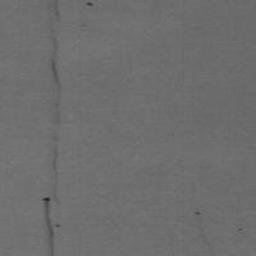Inclusion: (42, 0, 63, 256), (195, 210, 215, 256), (236, 225, 244, 236)
